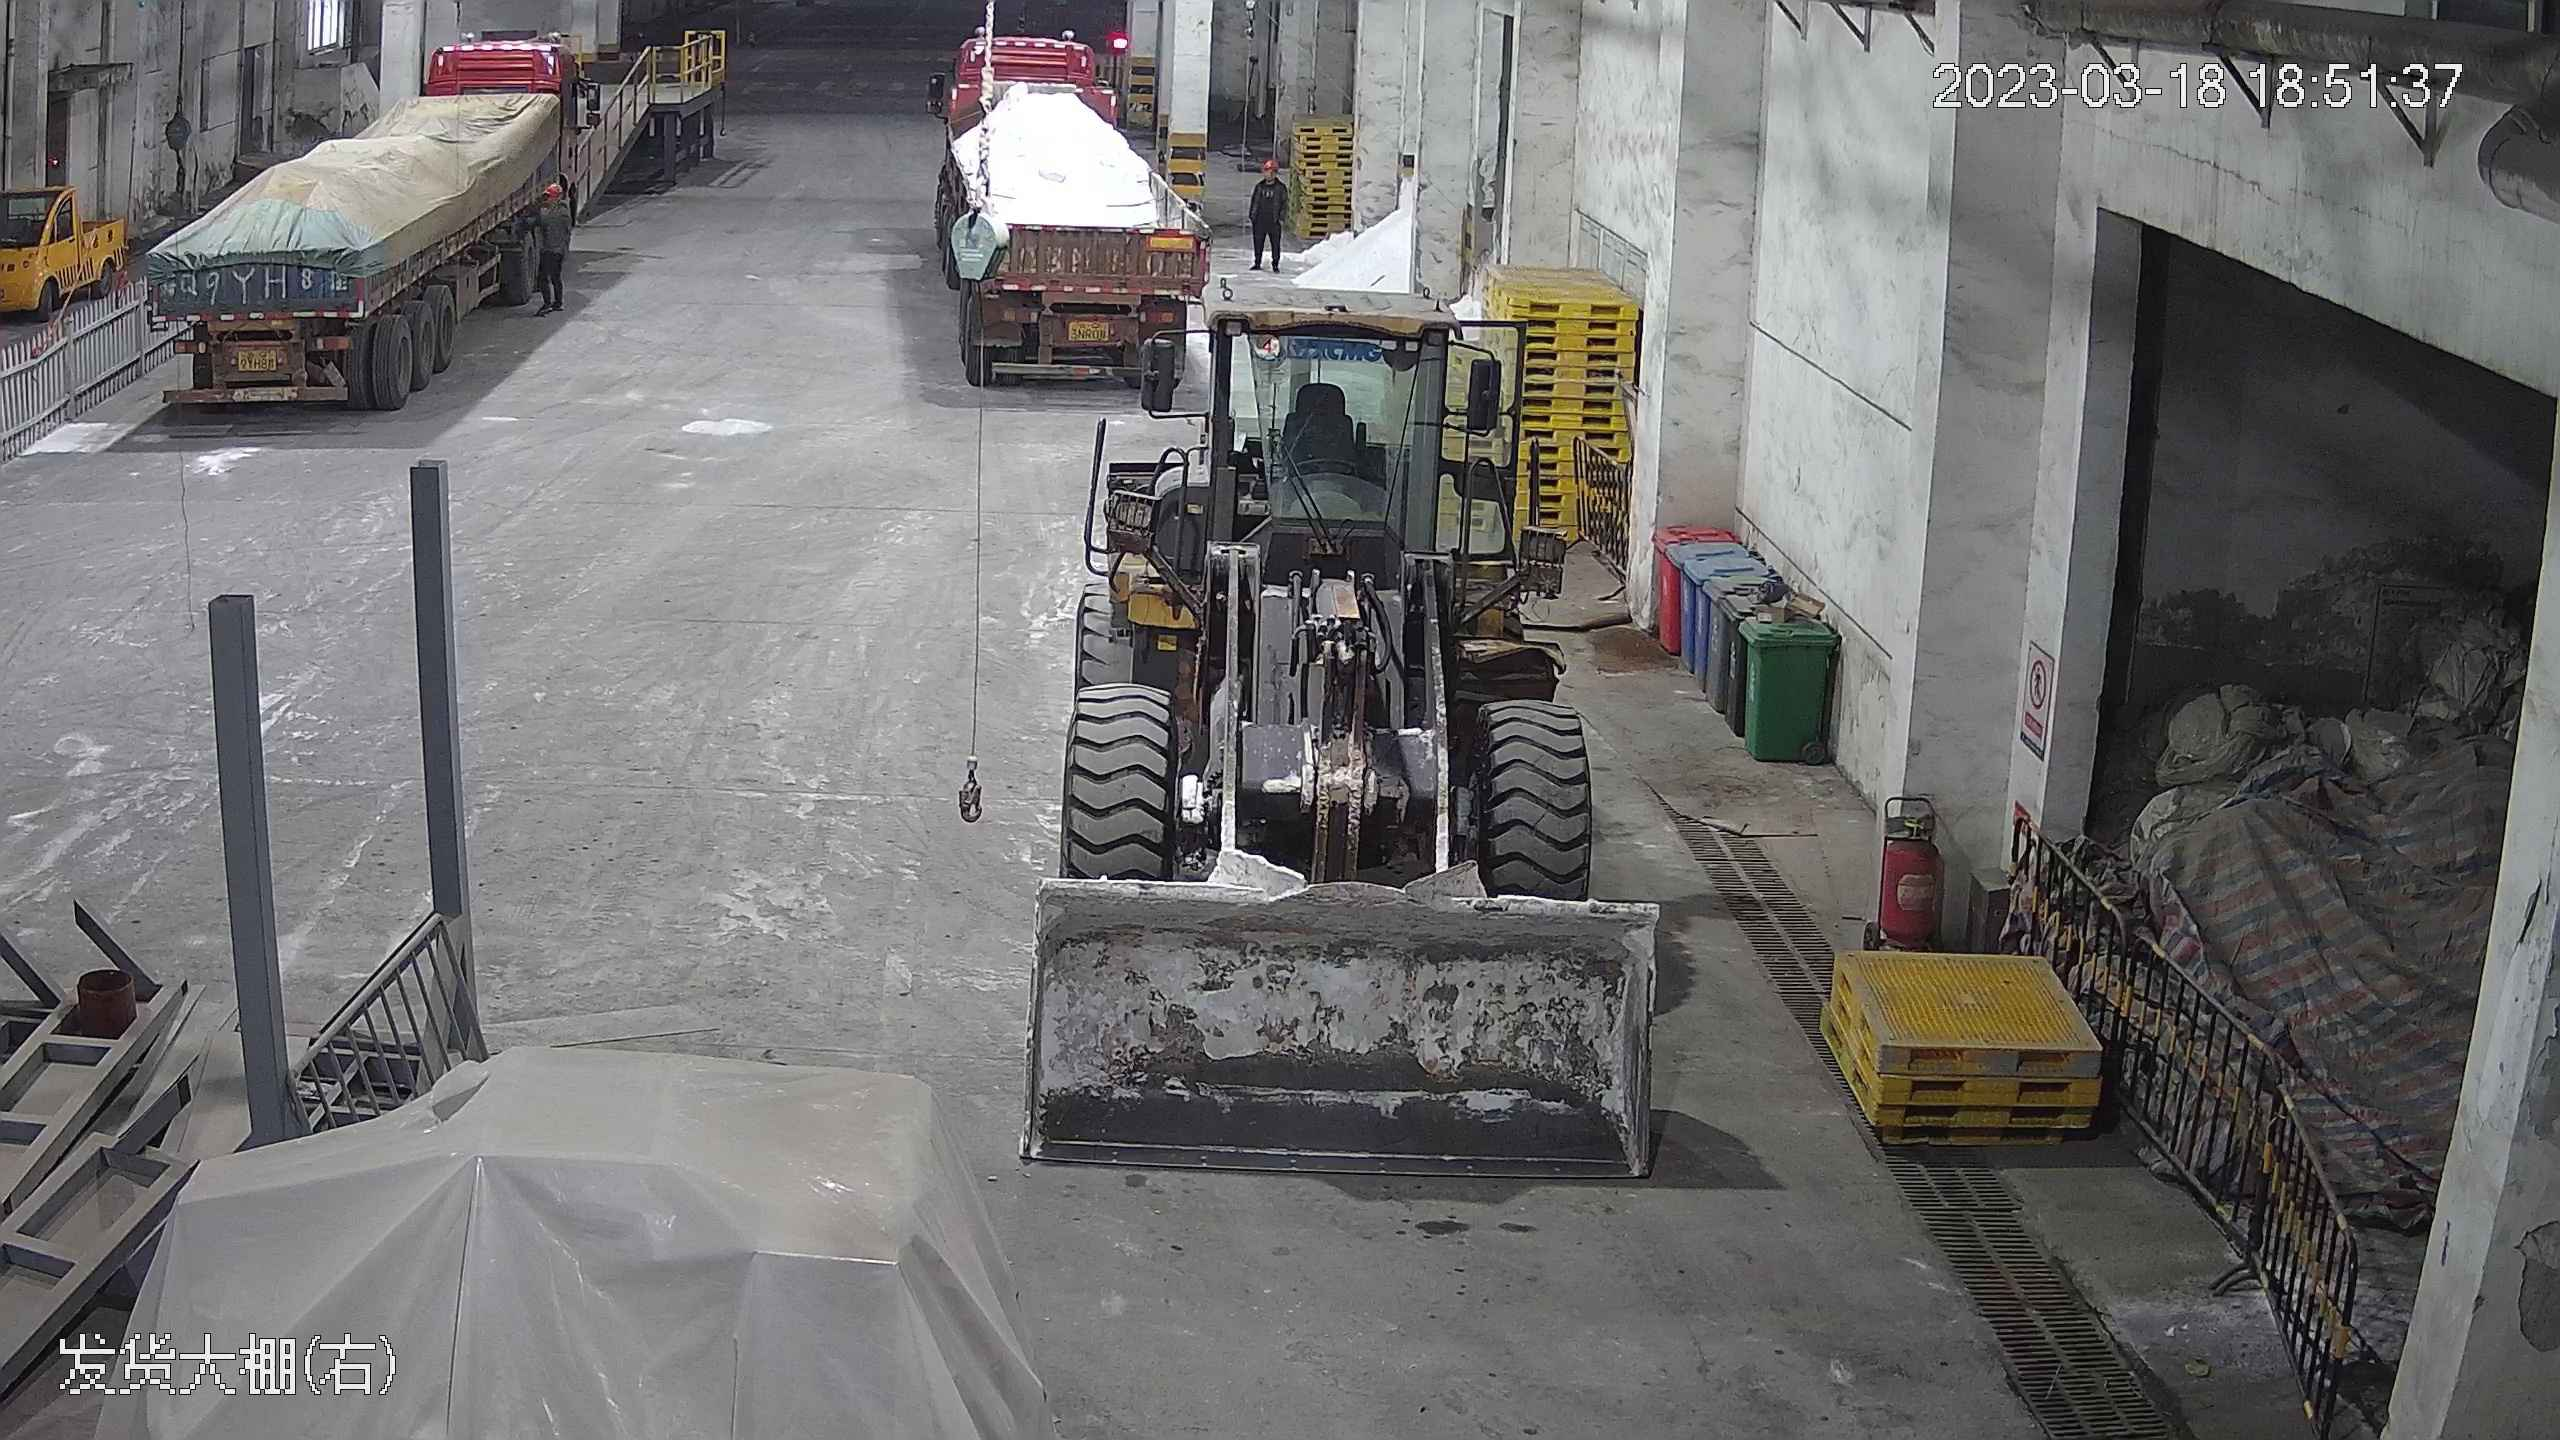head: (1247, 158, 1287, 200), (537, 180, 572, 227)
helmet: (1255, 154, 1280, 181), (544, 182, 563, 198)
people: (529, 177, 576, 318), (1245, 155, 1290, 272)
truck: (115, 12, 596, 426), (934, 15, 1200, 393)
